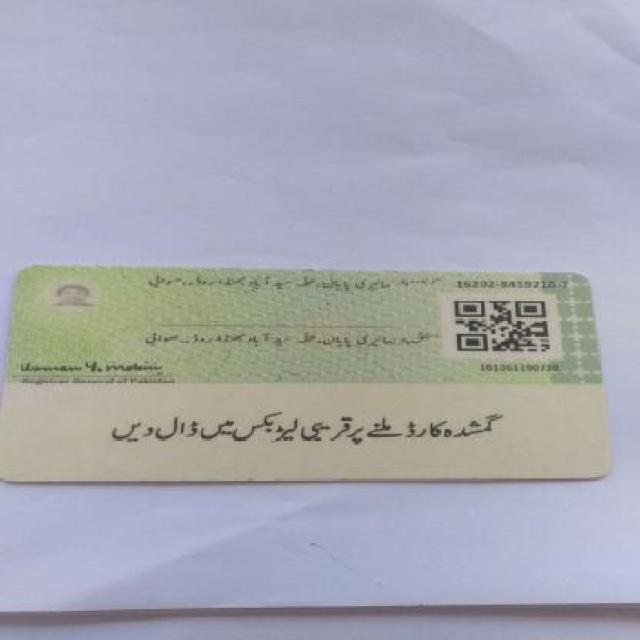Back: (2, 263, 623, 486)
